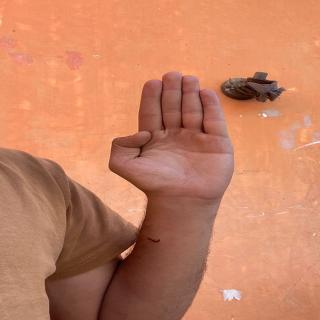SEEN: (90, 64, 260, 217)
